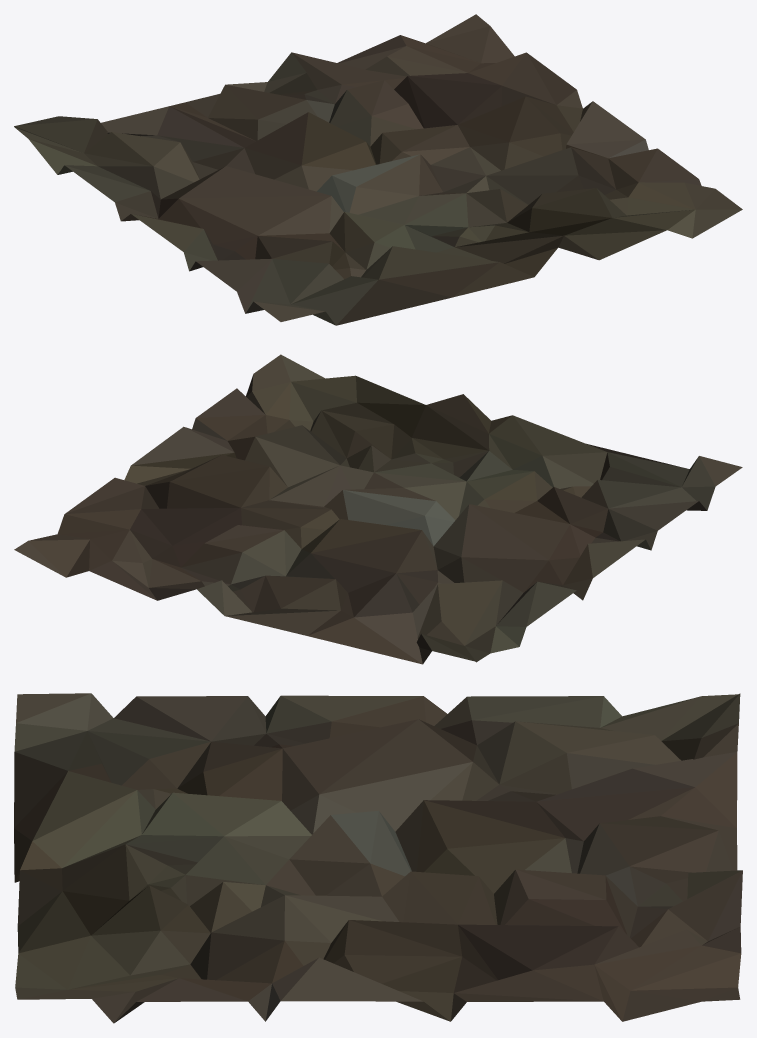
File: ceiling_4m.fbx
The picture shows the model from 3 angles, top to bottom: view 1: azimuth 30°, elevation 25°; view 2: azimuth 150°, elevation 25°; view 3: azimuth 270°, elevation 25°; orthographic projection. The views are drawn at different scales.
Parts seen in each view (by area): view 1: ceiling_4m; view 2: ceiling_4m; view 3: ceiling_4m.
Boxes of the visible parts, x1,y1,x2,y2 form: ceiling_4m: (14, 14, 742, 325); ceiling_4m: (14, 354, 742, 664); ceiling_4m: (14, 693, 742, 1023).
Bounding box in the file's own units: 4 × 0.2302 × 4.03.
